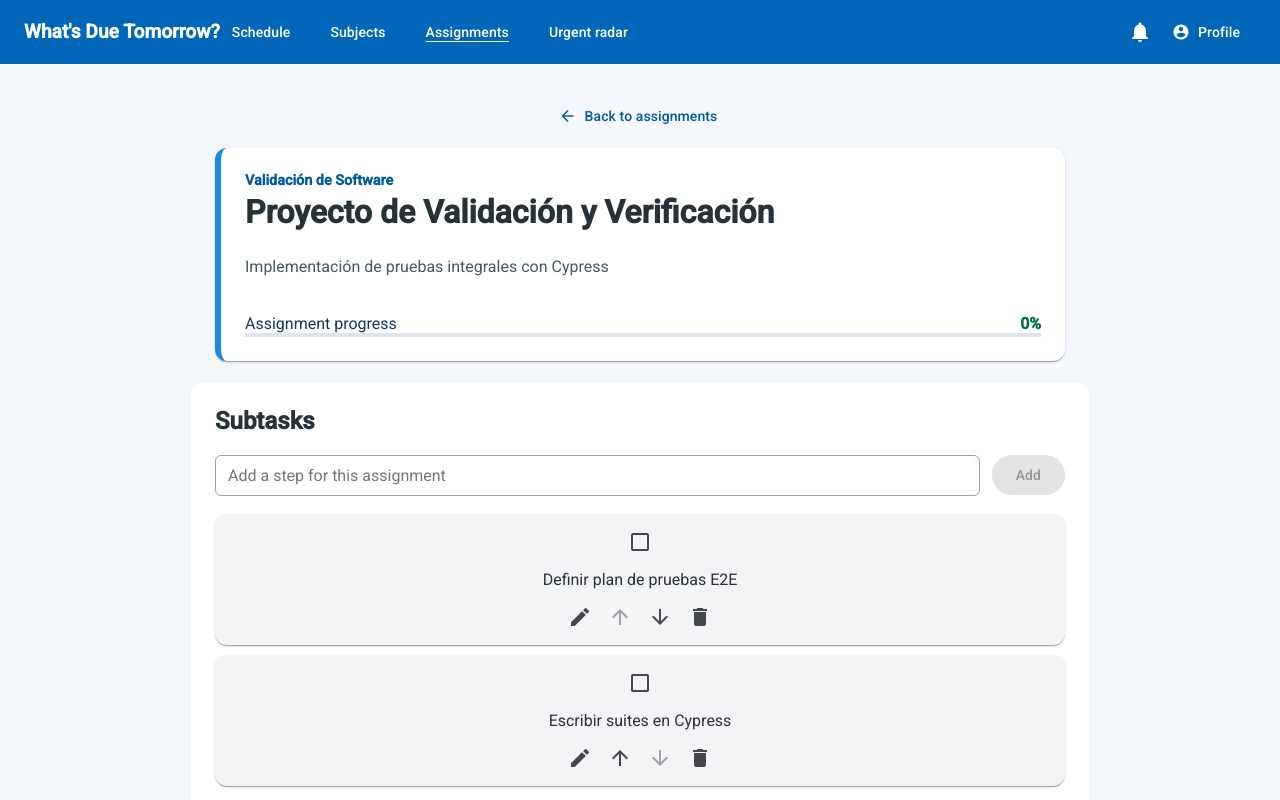
Scenario: F22: Desglosar Tareas en Subtareas con Avance Porcentual (Frontend E2E, UI & a11y) › E2: Debería permitir reordenar y eliminar subtareas actualizando la interfaz
The image size is (1280, 800).
Expected: the button named "Move up" is disabled, [600,597,640,637]
Expected: the element named "Move down" is enabled
# Mover hacia abajo la primera subtarea
Click the button named "Move down".
click(660, 617)  # box [640,597,680,637]
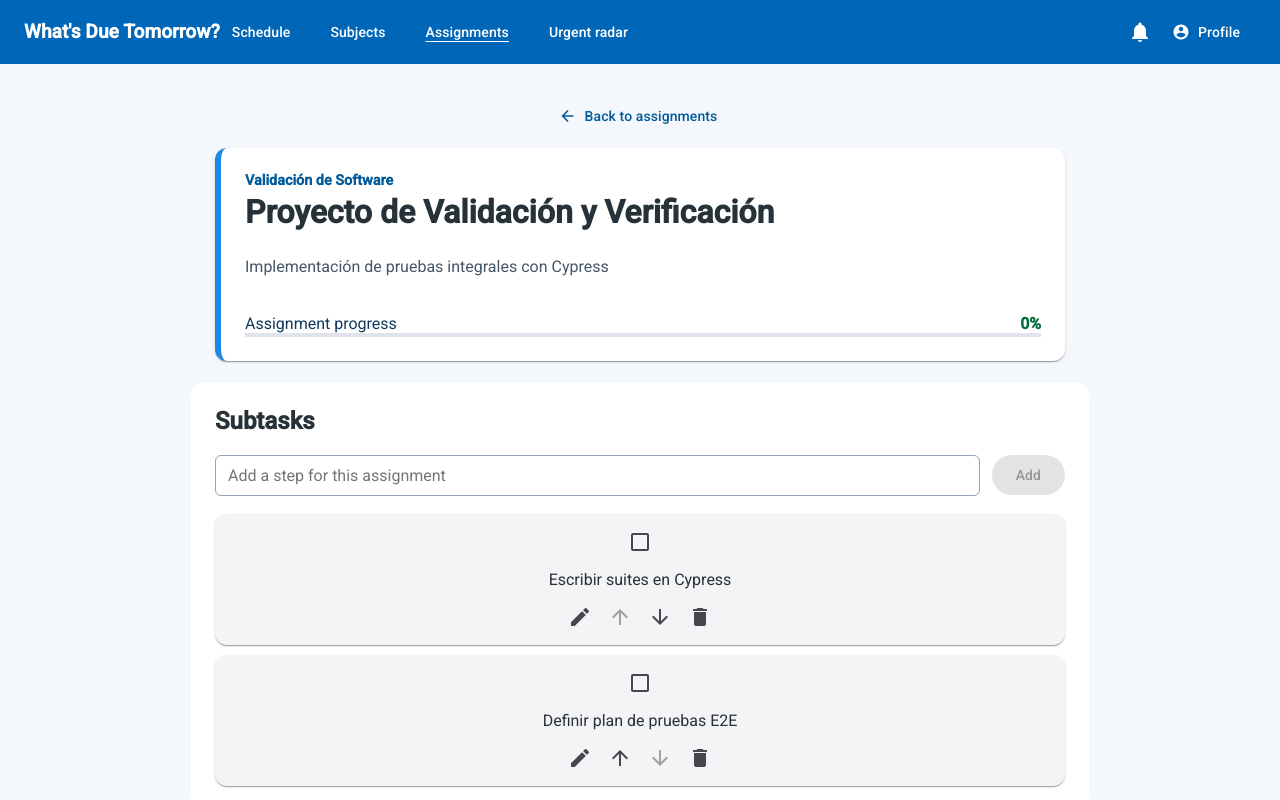
# Eliminar una subtarea
Click the button named "Delete".
click(700, 758)  # box [680,738,720,778]
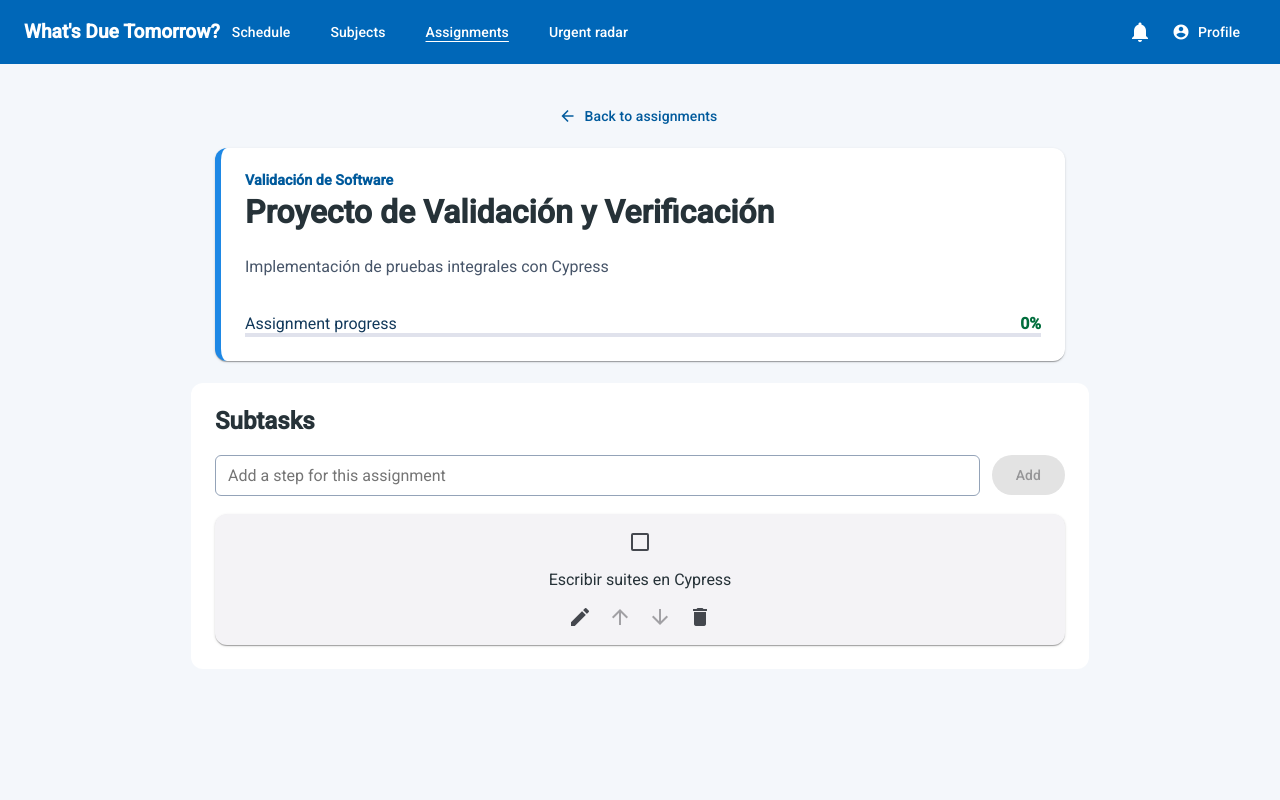
Result: the number of elements with class "subtask-item" is 1 at [215,514,1065,645]
